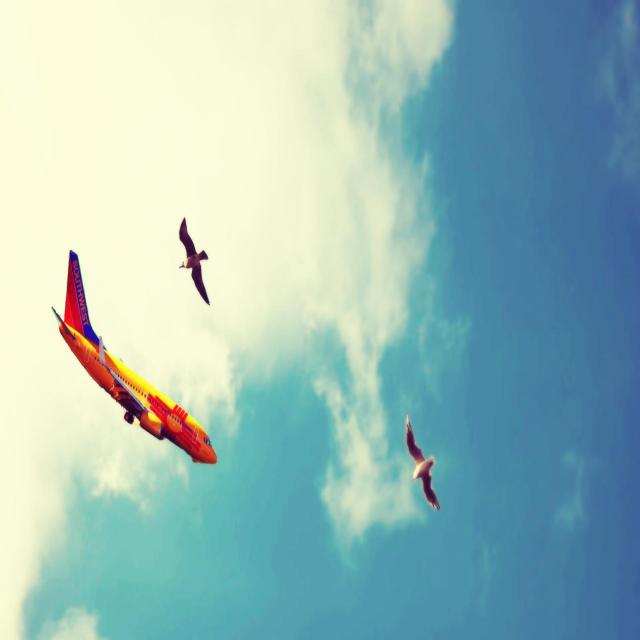airplane: (51, 248, 217, 465)
